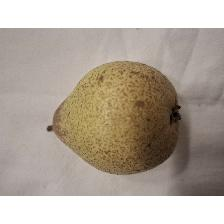Birne: (44, 58, 182, 178)
